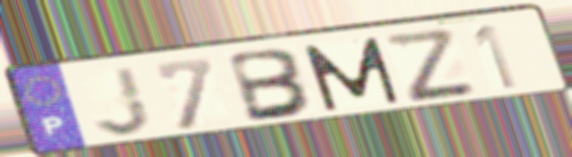1: (471, 23, 520, 89)
7: (152, 54, 220, 132)
B: (226, 46, 318, 125)
J: (91, 64, 157, 138)
M: (298, 35, 405, 114)
Z: (378, 26, 480, 105)
